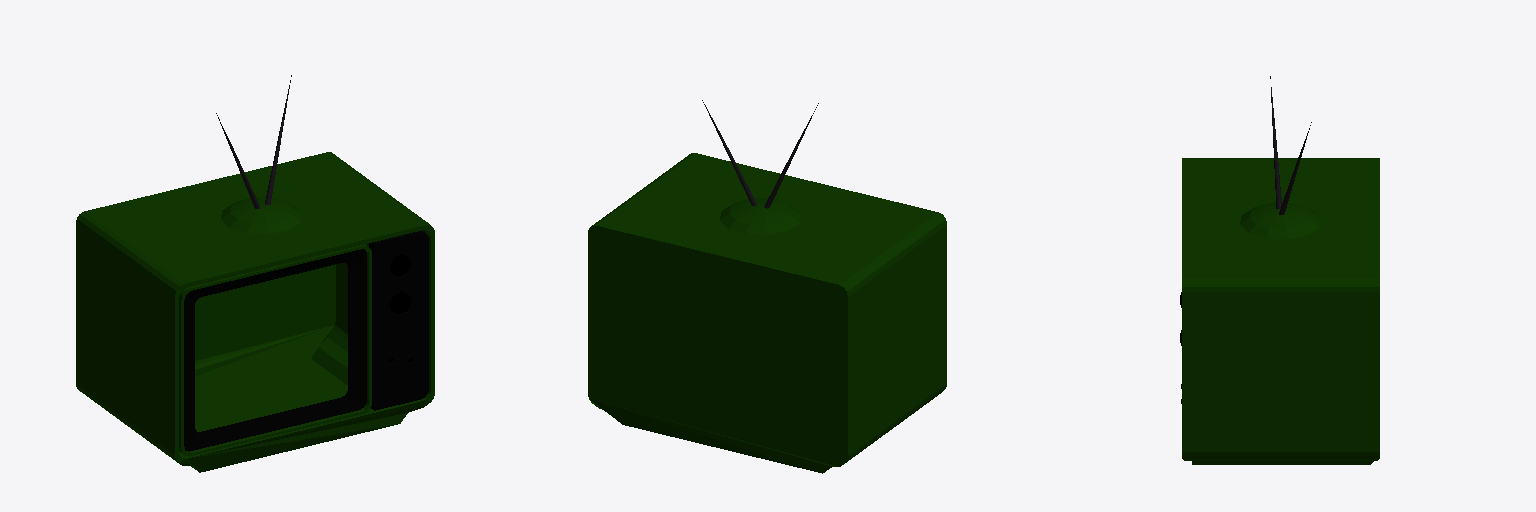
File: tvbrownish.obj
3 views of the same model, side by side, from view 1: azimuth 30°, elevation 25°; view 2: azimuth 150°, elevation 25°; view 3: azimuth 270°, elevation 25° (orthographic).
Visible parts, largest first — view 1: TV_television; view 2: TV_television; view 3: TV_television.
Part boxes in pixels (bbox=[...]): TV_television: bbox=[76, 75, 434, 472]; TV_television: bbox=[588, 100, 946, 473]; TV_television: bbox=[1180, 76, 1379, 464].
Bounding box in the file's own units: 3.03 × 3.56 × 2.02.